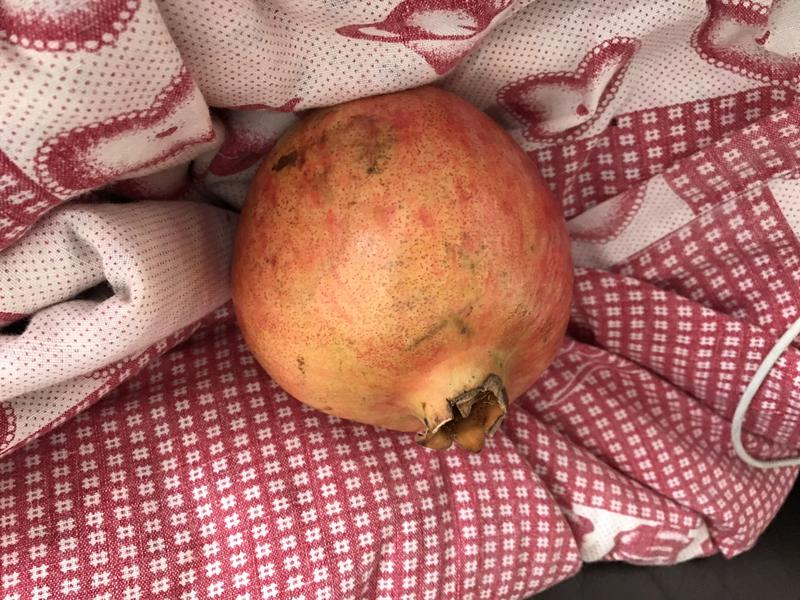pomegranate: (216, 69, 587, 467)
